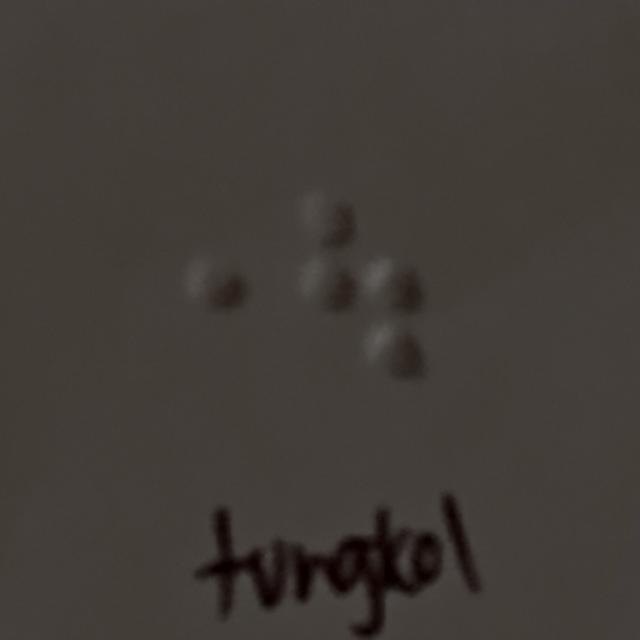dot_5: (128, 192, 250, 379)
tungkol: (303, 192, 425, 379)
